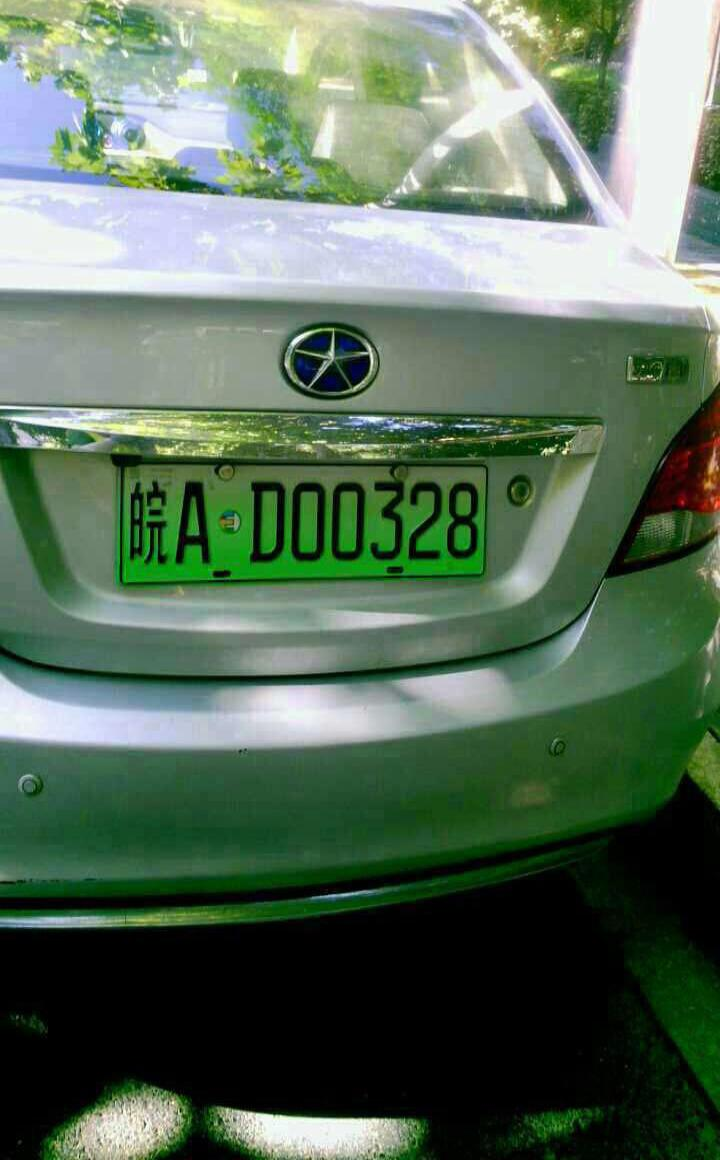car_id: (122, 461, 483, 578)
